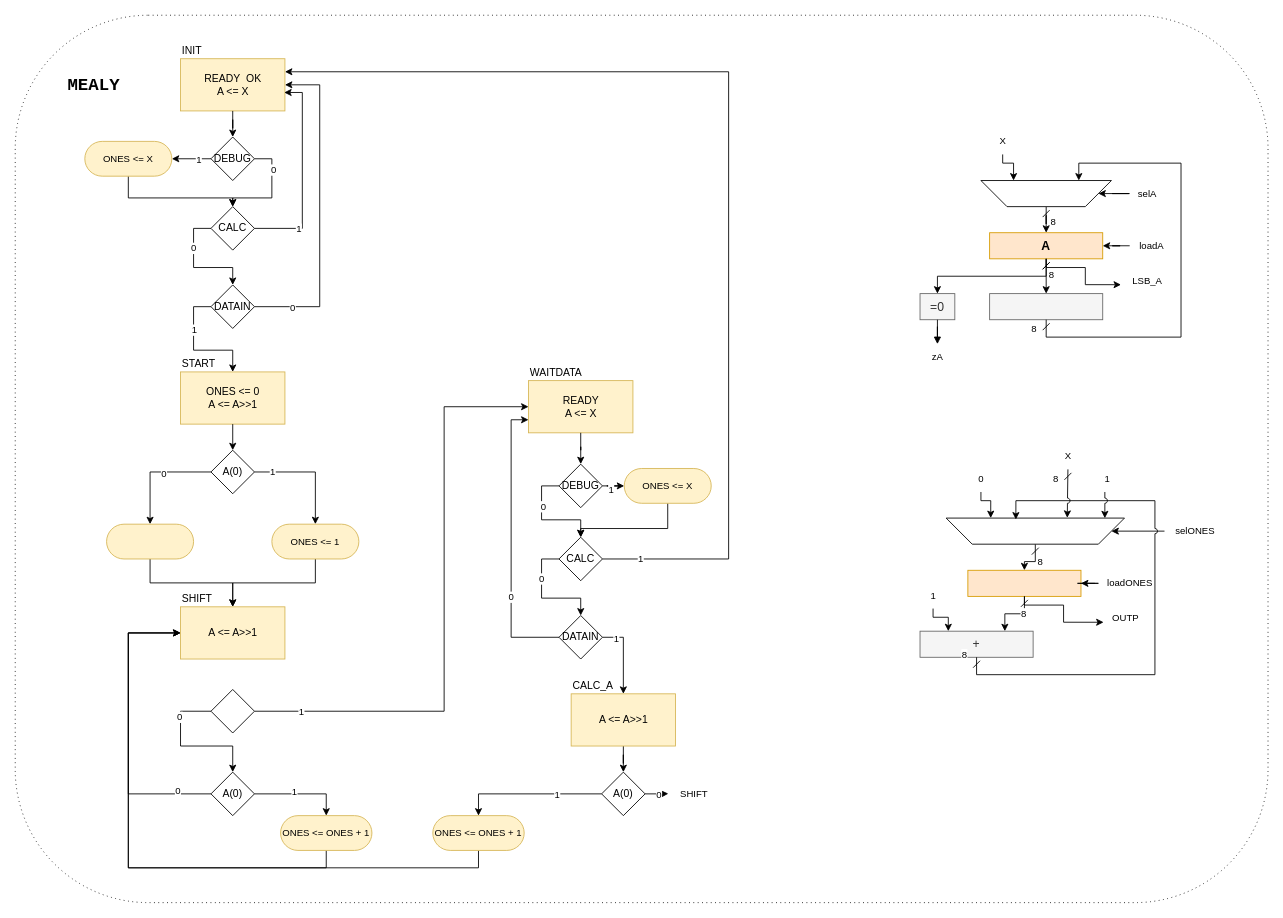
This 1283x918 diagram has some shape labels left out. Here are the shapes that lost their labels. From the top down, the centre of each, then its label:
At [1046,306]: "rsl".
At [150,541]: "ONES <= 0".
At [1024,582]: "ONES".
At [232,711]: "A=0".
